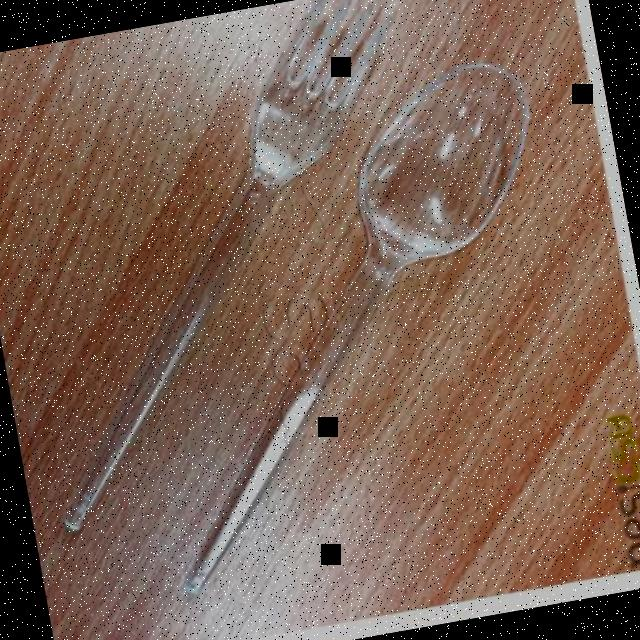plastic_box: (0, 0, 599, 612)
